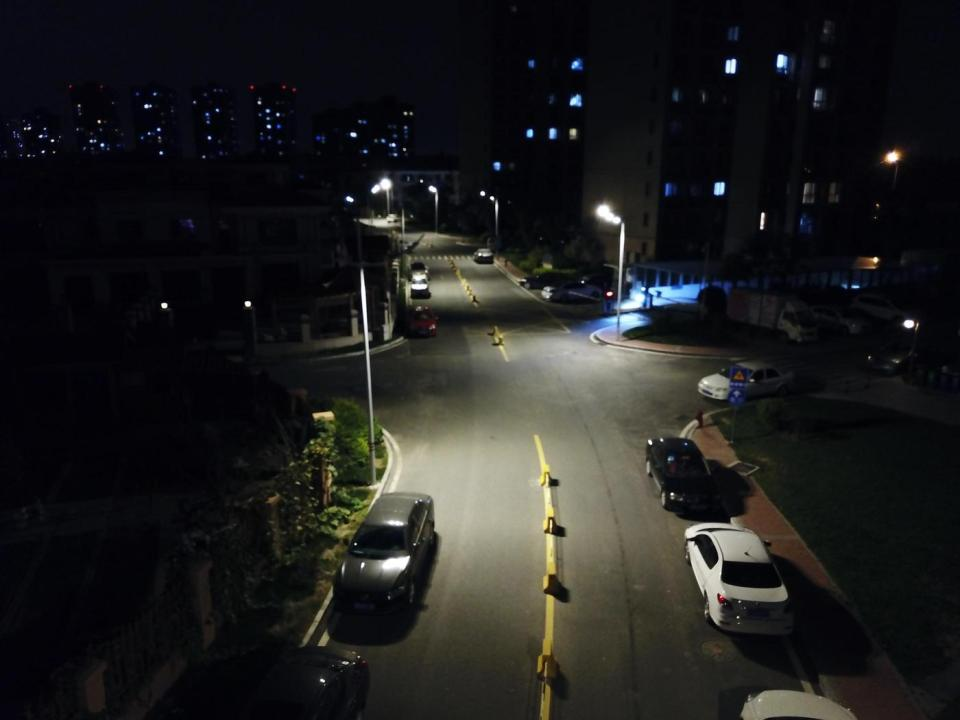car: (683, 522, 795, 636), (332, 491, 434, 615), (244, 644, 370, 720), (645, 437, 722, 512), (696, 359, 797, 402), (869, 337, 935, 374), (851, 293, 920, 323), (810, 304, 871, 334), (542, 280, 602, 302), (408, 306, 438, 334), (520, 272, 572, 288), (410, 274, 430, 295), (409, 262, 430, 280), (473, 247, 494, 262), (387, 213, 399, 223)
truck: (726, 284, 818, 344)
